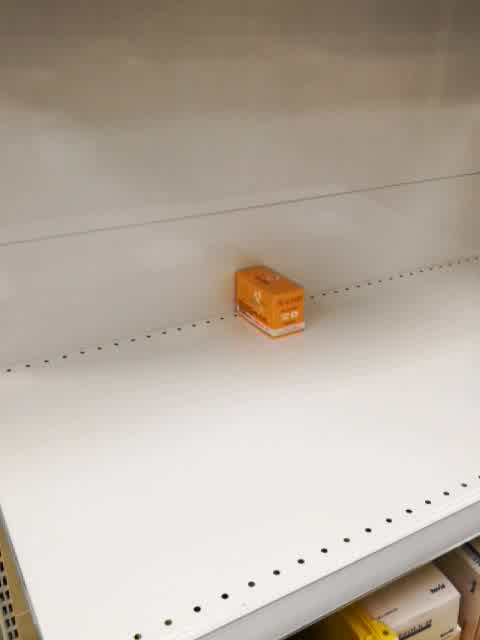jasminetea: (233, 264, 305, 340)
